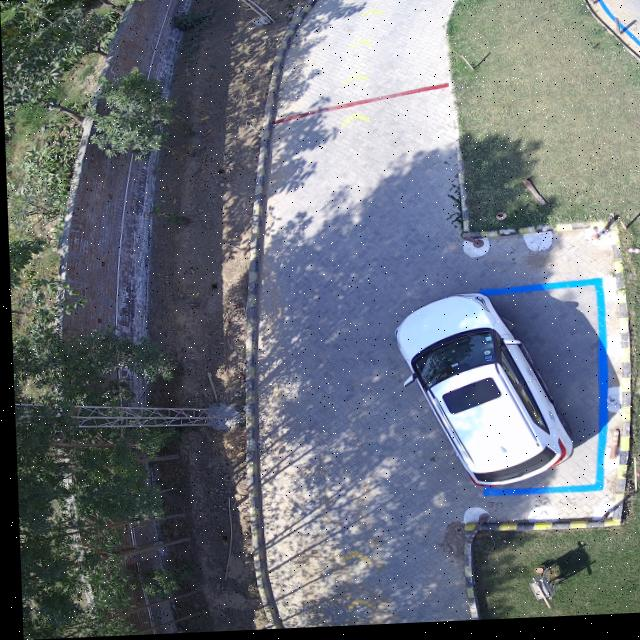car: (395, 296, 575, 493)
